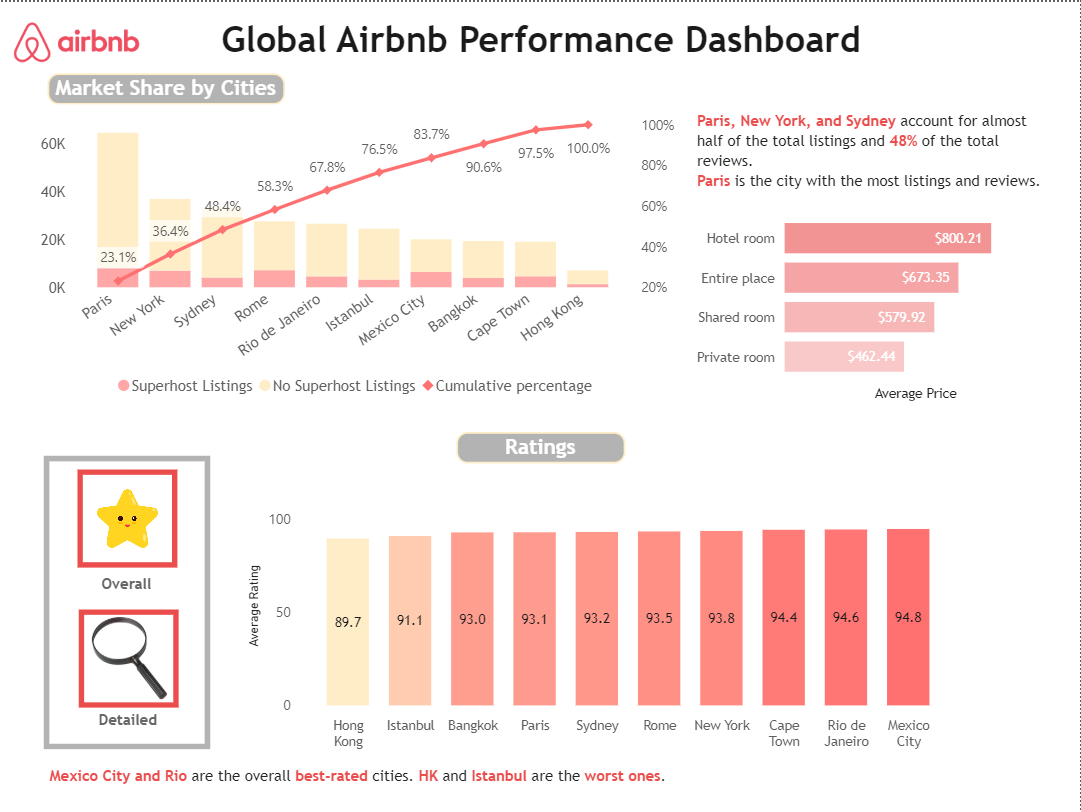

What the dashboard file says about the page in this screenshot:
{"tool":"powerbi","page":{"name":"Ratings","canvas":[960,720],"ordinal":1},"visuals":[{"type":"shape","box":[39,403,148,261],"z":0},{"type":"image","box":[69,416,89,87],"z":0,"group":"g2"},{"type":"textbox","box":[178.6,9,603.8,54.3],"z":1000},{"type":"image","box":[70,540,89,87],"z":1000,"group":"g3"},{"type":"textbox","box":[42,63,211,28],"z":2000},{"type":"textbox","box":[614,91,316,83],"z":2000,"group":"g1"},{"type":"image","box":[4,12,127,47],"z":3000},{"type":"lineStackedColumnComboChart","fields":{"Category":["Listings.city"],"Y":["Listings.Superhost Listings","Listings.No Superhost Listings"],"Y2":["Listings.Cumulative percentage"]},"box":[31,91,573,269],"z":4000,"group":"g1"},{"type":"textbox","box":[39,673,858,36],"z":4000},{"type":"barChart","fields":{"Category":["Listings.room_type"],"Y":["Listings.Average Price"]},"box":[614,174,316,185.1],"z":5000,"group":"g1"},{"type":"columnChart","fields":{"Category":["Listings.city"],"Y":["Listings.Average Ratings"]},"box":[215,434,639,238],"z":5000},{"type":"group","id":"g1","title":"Group 1","box":[31,91,899,269],"z":6000},{"type":"textbox","box":[75,503,76,34],"z":6001,"group":"g2"},{"type":"textbox","box":[76,623,76,34],"z":6002,"group":"g3"},{"type":"group","id":"g2","title":"Group 2","box":[69,416,89,121],"z":8000},{"type":"group","id":"g3","title":"Group 3","box":[70,540,89,117],"z":9000},{"type":"textbox","box":[405,382,150,28],"z":10000}]}

Visuals, with their boxes in screenshot pixels (x1, y1, x2, y2), scaled from the page's 960x720 canvas onto the 1081x812 screenshot:
shape: [44, 454, 211, 749]
image: [78, 469, 178, 567]
textbox: [201, 10, 881, 71]
image: [79, 609, 179, 707]
textbox: [47, 71, 285, 103]
textbox: [691, 103, 1047, 196]
image: [5, 14, 148, 67]
lineStackedColumnComboChart - Listings.city x Listings.Superhost Listings: [35, 103, 680, 406]
textbox: [44, 759, 1010, 800]
barChart - Listings.room_type x Listings.Average Price: [691, 196, 1047, 405]
columnChart - Listings.city x Listings.Average Ratings: [242, 489, 962, 758]
"Group 1" group: [35, 103, 1047, 406]
textbox: [84, 567, 170, 606]
textbox: [86, 703, 171, 741]
"Group 2" group: [78, 469, 178, 606]
"Group 3" group: [79, 609, 179, 741]
textbox: [456, 431, 625, 462]
